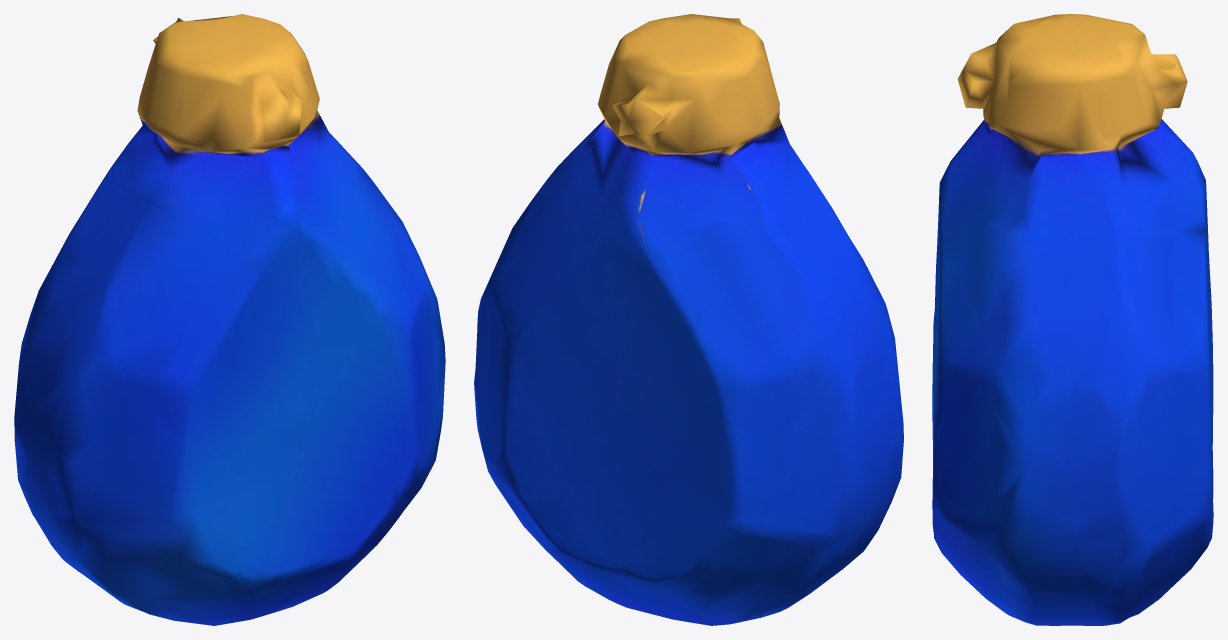
The model's file is gem_mage-vJ9wOdTF.glb.
3 renders of one model, left to right at view 1: azimuth 30°, elevation 25°; view 2: azimuth 150°, elevation 25°; view 3: azimuth 270°, elevation 25°, orthographic.
Visible parts, largest first — view 1: tripo_node_2976e028-1e7e-41ce-8917-5240c85f905d; view 2: tripo_node_2976e028-1e7e-41ce-8917-5240c85f905d; view 3: tripo_node_2976e028-1e7e-41ce-8917-5240c85f905d.
Part boxes in pixels (x1=…): tripo_node_2976e028-1e7e-41ce-8917-5240c85f905d: x1=14, y1=14, x2=445, y2=625; tripo_node_2976e028-1e7e-41ce-8917-5240c85f905d: x1=474, y1=14, x2=903, y2=625; tripo_node_2976e028-1e7e-41ce-8917-5240c85f905d: x1=932, y1=14, x2=1213, y2=625.
Bounding box in the file's own units: 0.7129 × 1 × 0.4487.
1 material, 1 textured.
